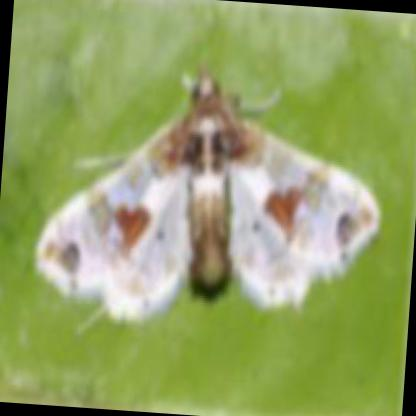leucinodes: (35, 74, 384, 327)
